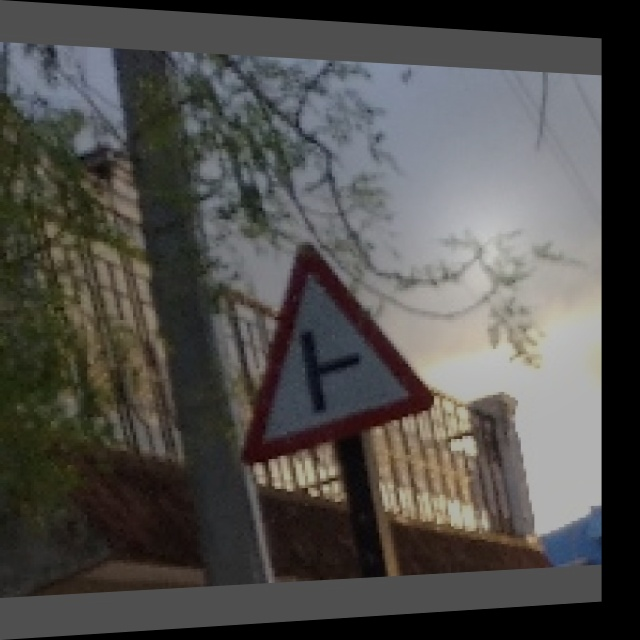Side_Road_Right: (228, 241, 421, 445)
